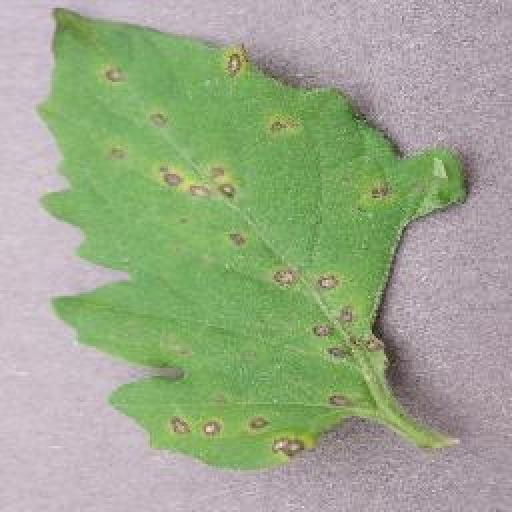Septoria: (35, 10, 467, 470)
